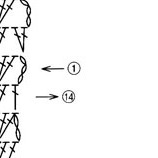enseble_chain: (10, 9, 32, 55), (0, 51, 25, 89), (8, 61, 35, 86), (17, 0, 36, 30), (0, 109, 17, 140), (9, 112, 26, 142), (35, 89, 62, 107), (6, 85, 24, 112), (41, 60, 67, 77), (61, 88, 76, 104), (66, 61, 81, 77), (17, 56, 29, 74)
